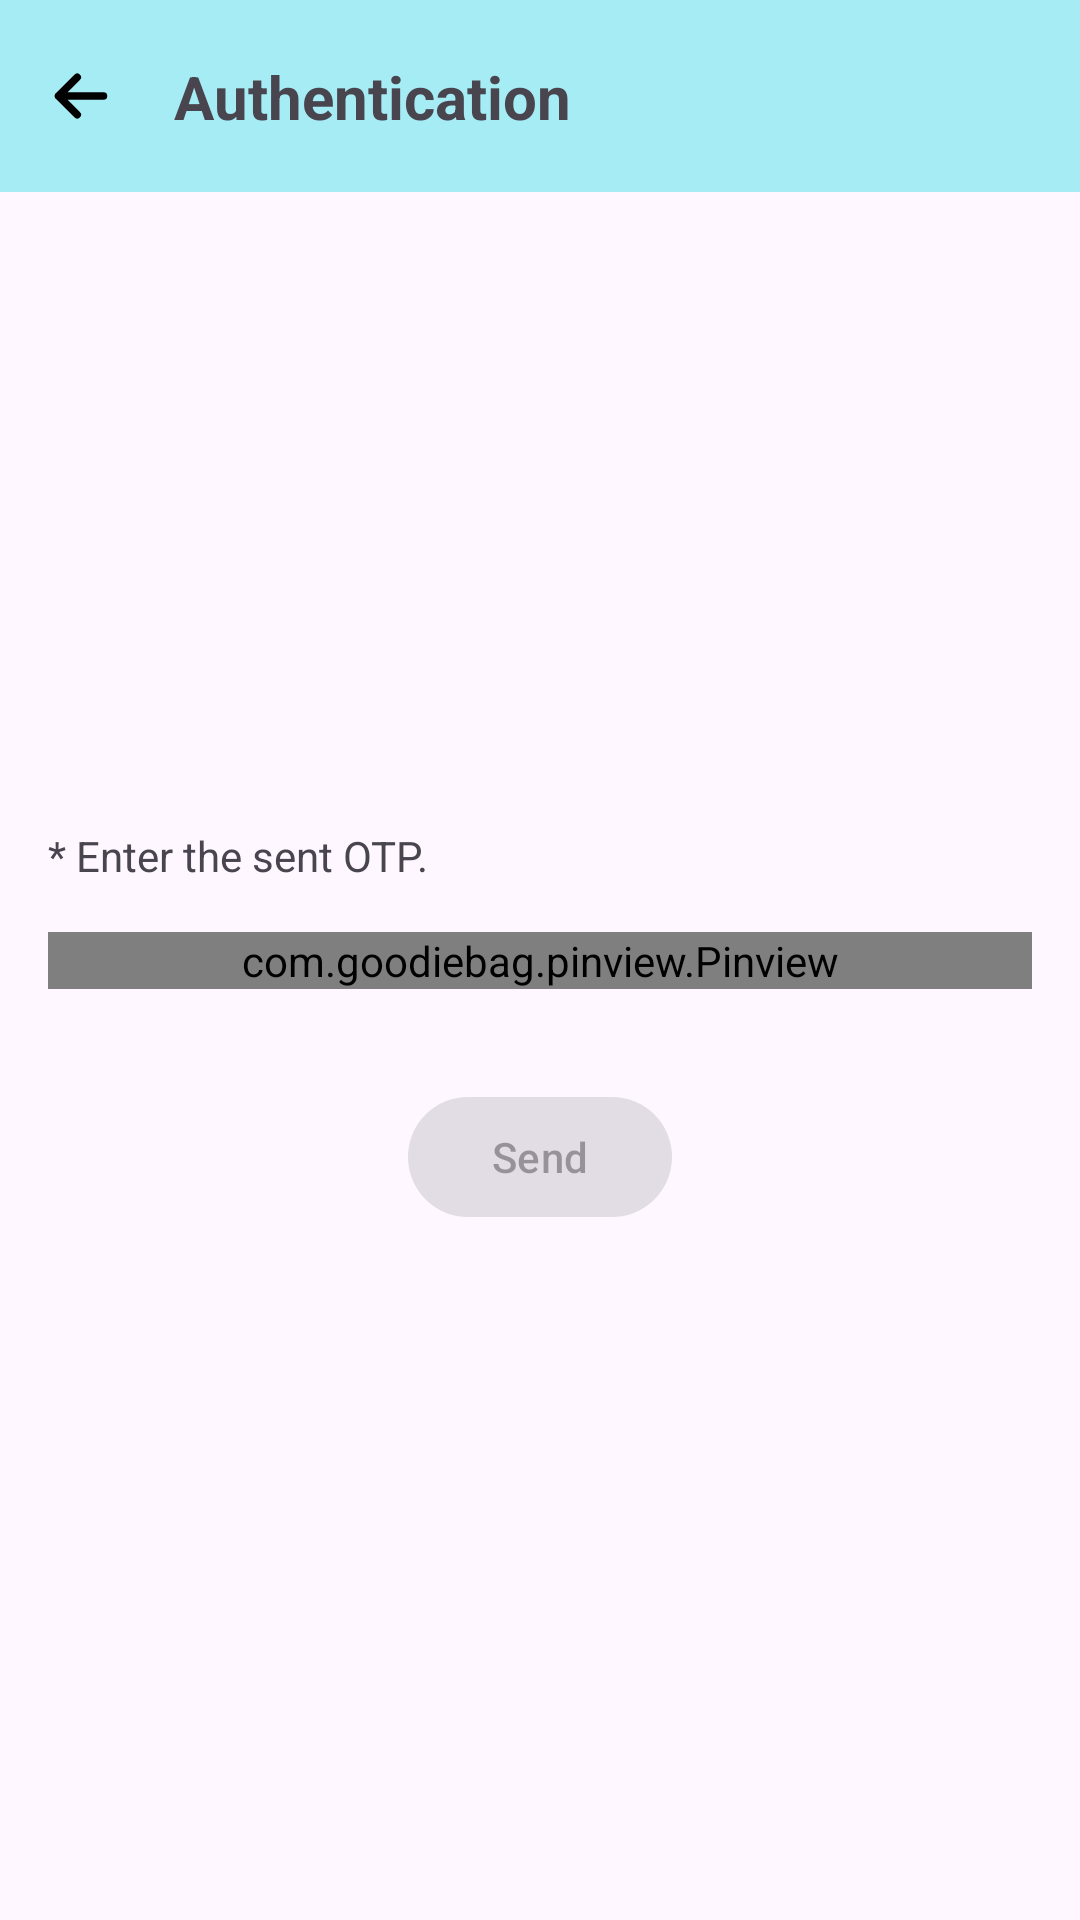

Screen size 1080 x 1920. Icon name, then its center in pixels as (x=x, y=y):
back arrow: (x=81, y=96)
